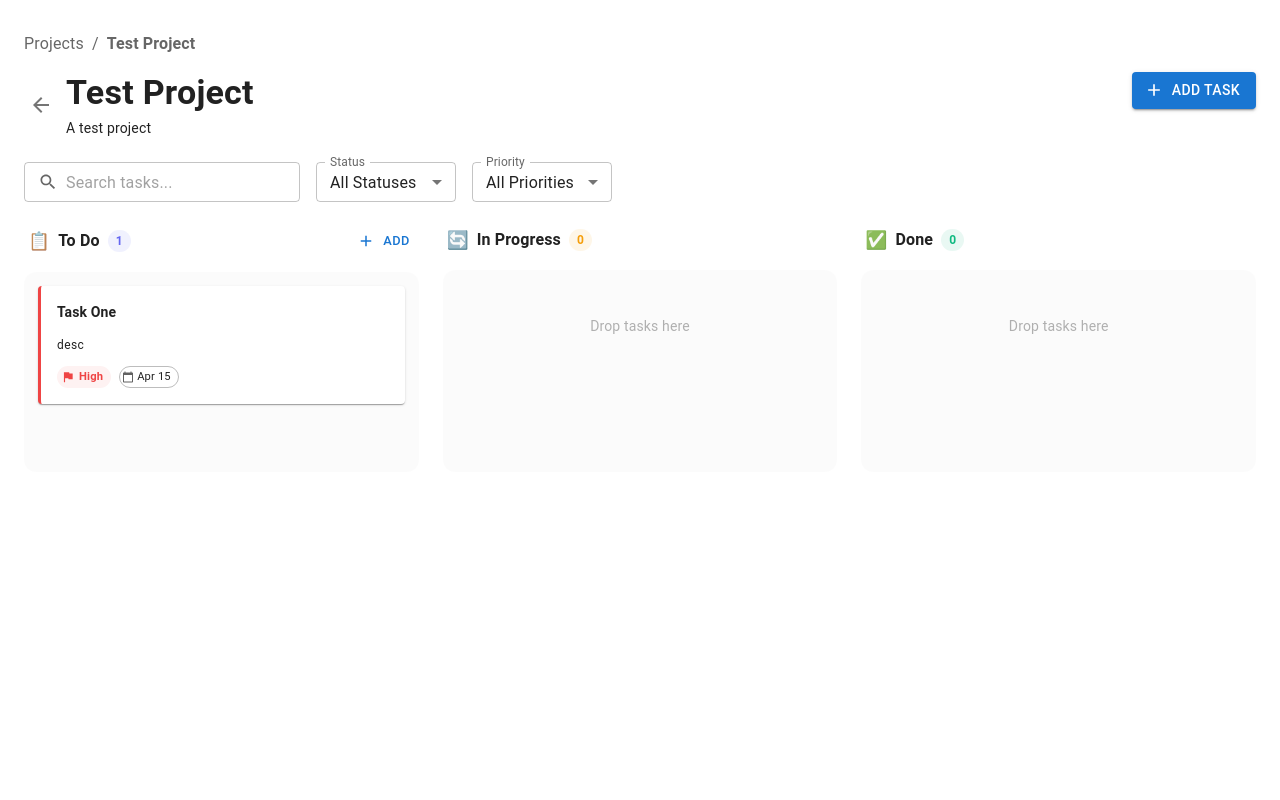
it: ProjectDetailPage › opens task modal when Add Task is clicked
Expected: the text "A test project" is shown, [66, 120, 151, 136]
Click the button "Add Task".
click(1194, 90)  # box [1132, 72, 1256, 108]
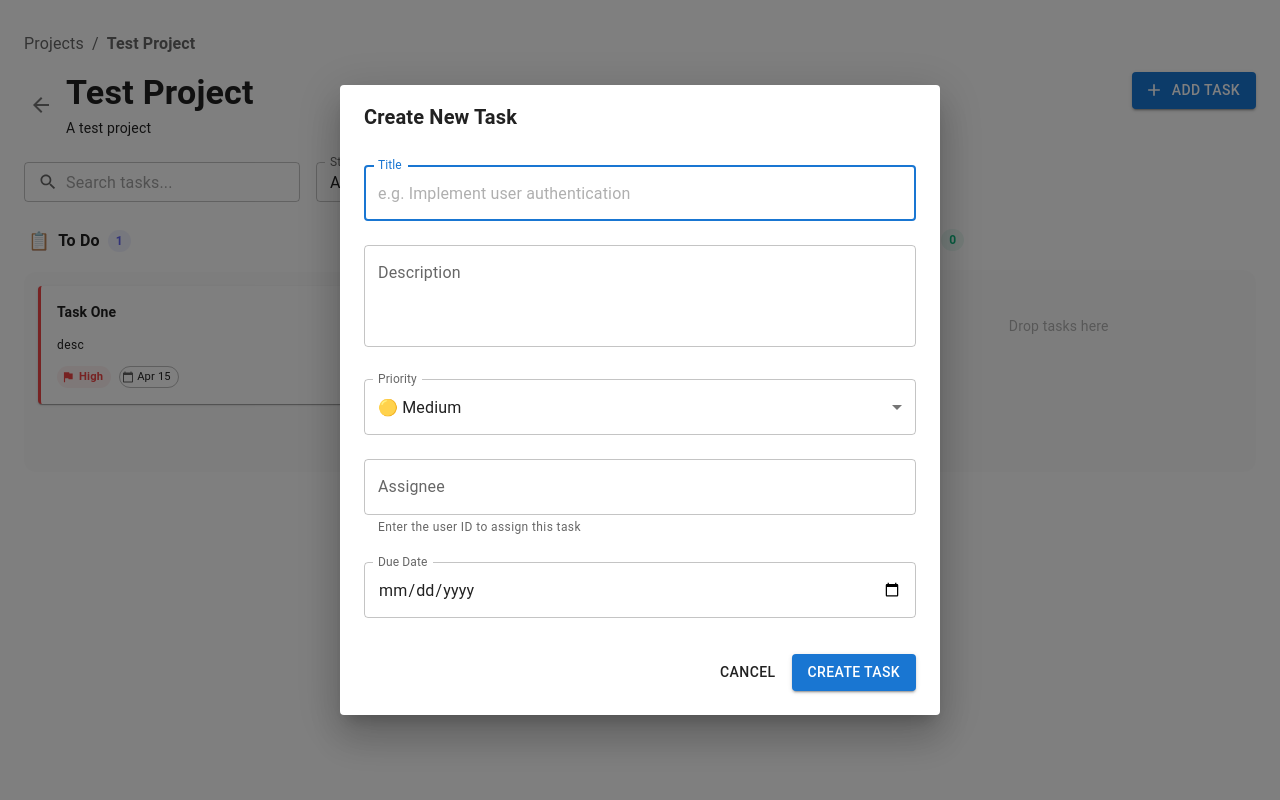
Expected: the heading "Create New Task" is shown, [364, 105, 517, 129]
